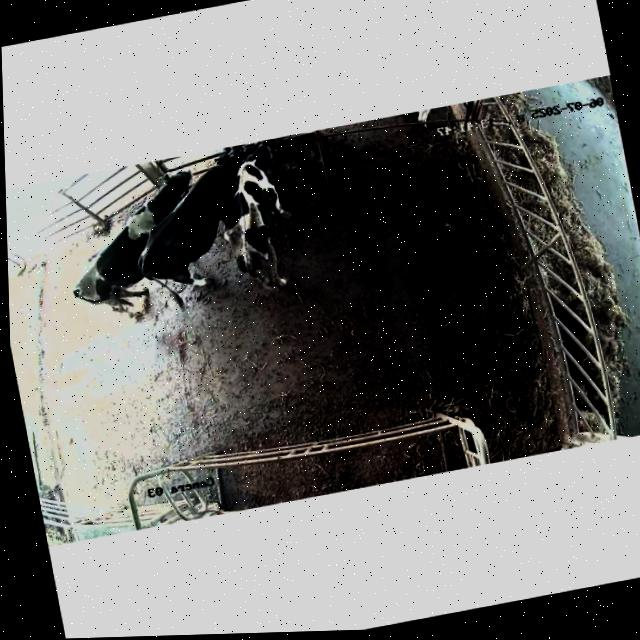drink: (232, 135, 295, 197), (207, 141, 263, 181)
stand: (47, 164, 218, 342)
